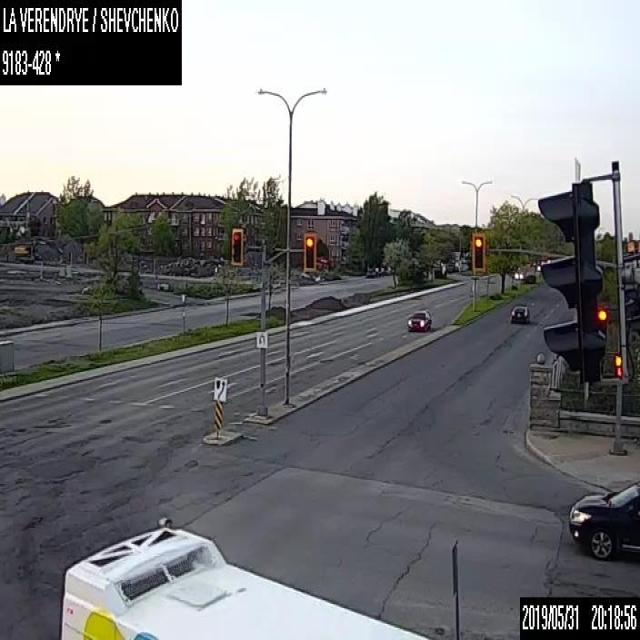bus: (59, 518, 430, 638)
vehicle: (569, 477, 639, 559), (407, 308, 430, 330), (510, 302, 529, 322), (365, 264, 376, 278), (374, 266, 384, 276), (513, 269, 523, 278), (384, 266, 392, 274)
